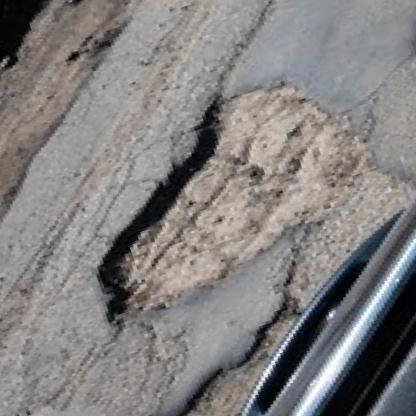pothole: (51, 53, 406, 322), (0, 302, 344, 416)
